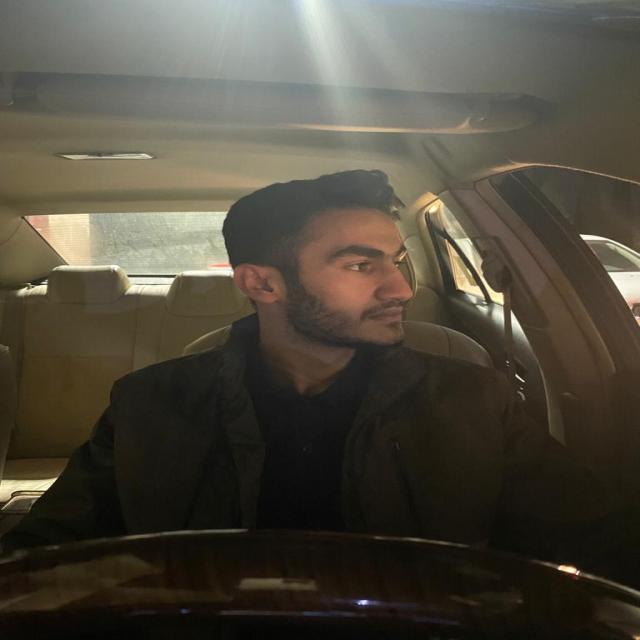LeftRight: (218, 164, 422, 356)
